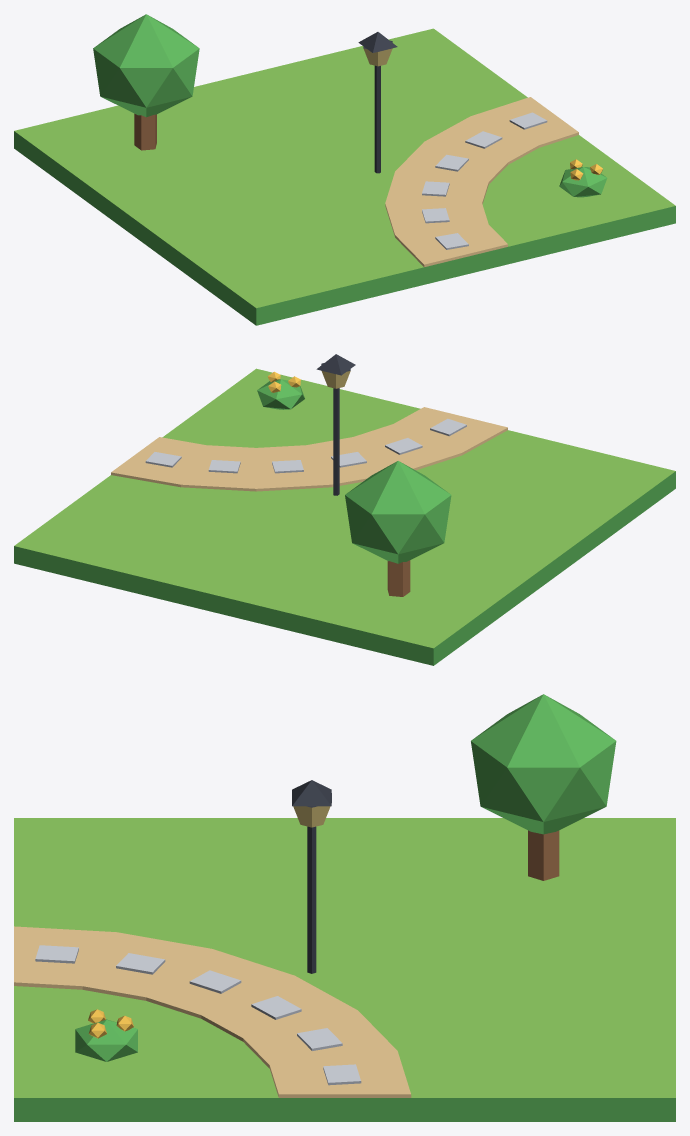
Rendered from path_corner.glb.
3 renders of one model, top to bottom at view 1: azimuth 30°, elevation 25°; view 2: azimuth 150°, elevation 25°; view 3: azimuth 270°, elevation 25°, orthographic. The views are drawn at different scales.
Parts seen in each view (by area): view 1: path_corner; view 2: path_corner; view 3: path_corner.
Boxes of the visible parts, bbox=[...] form: path_corner: bbox=[14, 14, 675, 325]; path_corner: bbox=[14, 354, 675, 665]; path_corner: bbox=[14, 694, 675, 1121].
Size of the model in its own units: 1 by 0.36 by 1.
